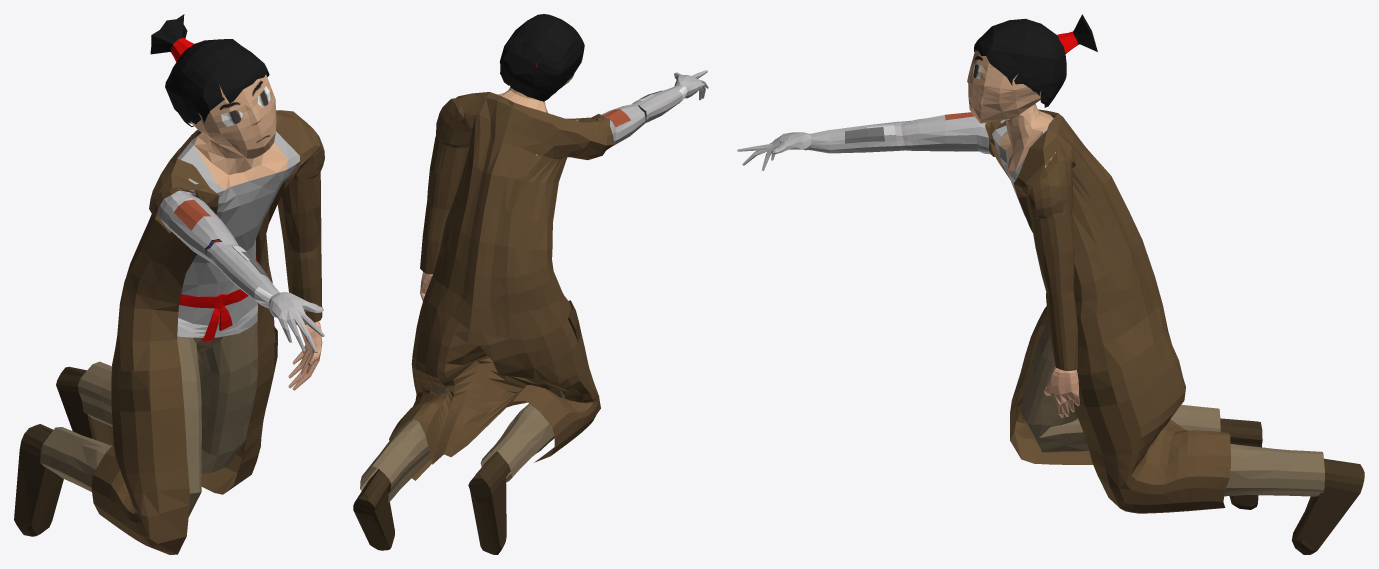
The model's file is One_Die_000039.obj.
The picture shows the model from 3 angles, left to right: view 1: azimuth 30°, elevation 25°; view 2: azimuth 150°, elevation 25°; view 3: azimuth 270°, elevation 25°; orthographic projection. The views are drawn at different scales.
Visible parts, largest first — view 1: Hair_Cube.004; view 2: Hair_Cube.004; view 3: Hair_Cube.004.
Boxes of the visible parts, x1,y1,x2,y2 form: Hair_Cube.004: (14,14,324,554); Hair_Cube.004: (353,14,708,554); Hair_Cube.004: (737,14,1364,554).
Size of the model in its own units: 1.13 by 3.01 by 3.32.
